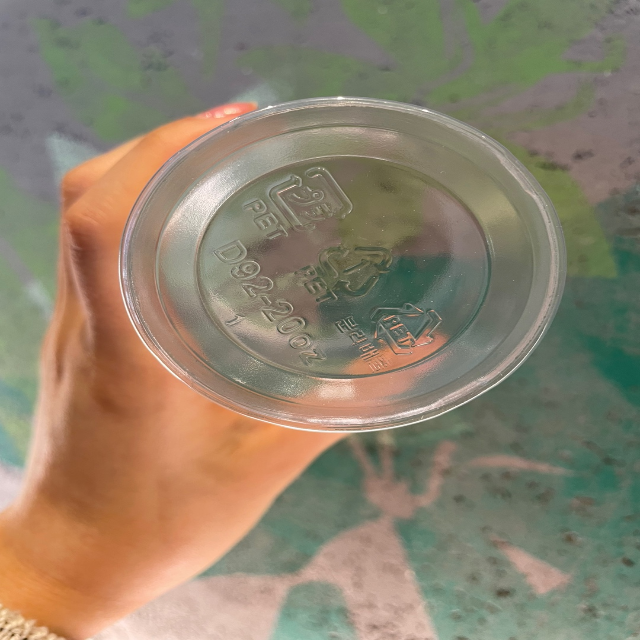pet: (240, 158, 361, 246), (335, 295, 444, 369), (297, 233, 397, 306)
